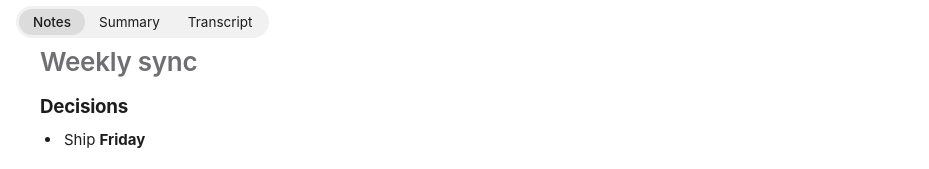
Test: SessionView: notes/transcript tabs › renders Markdown in both Notes and Summary
Expected: the heading "Decisions" is shown, [40,95,128,118]
Press the mouse on the tab "Summary" at {"x": 129, "y": 22}, box [85,9,174,35]
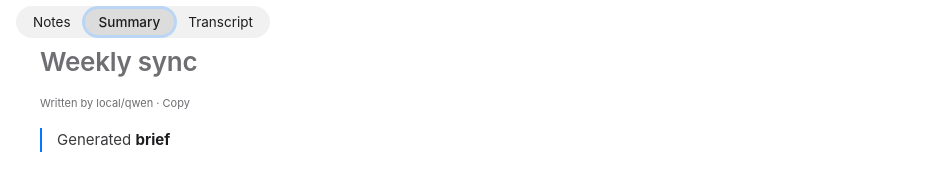
Result: the text "Generated brief" is shown at [40,128,912,152]
